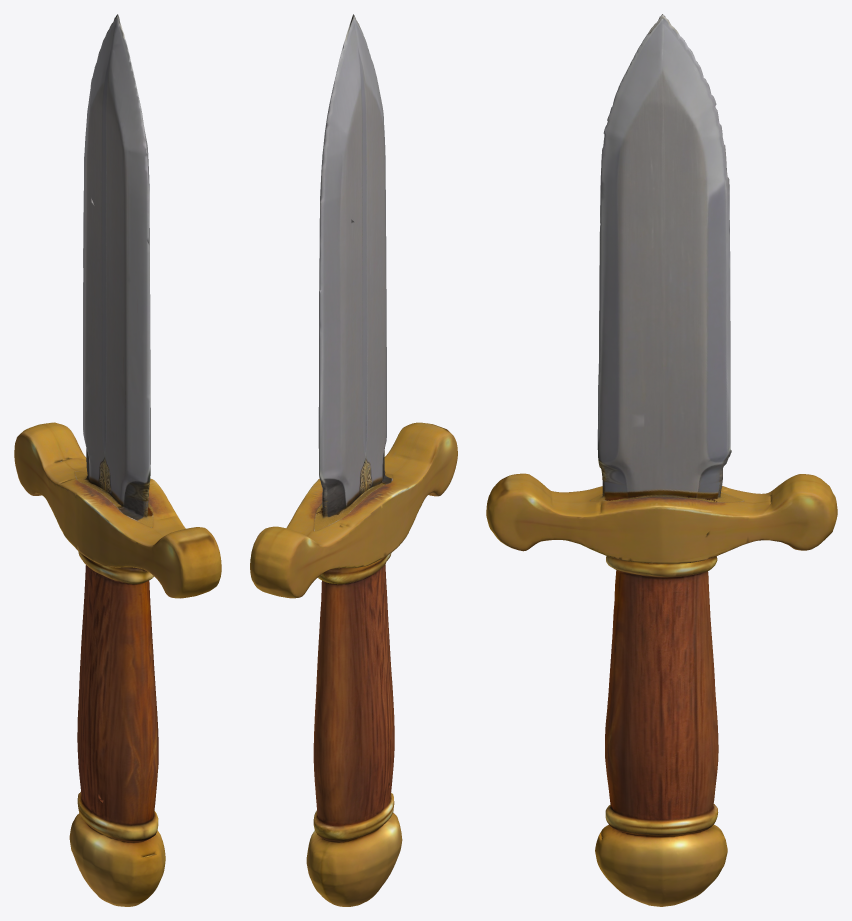
File: hancer2.fbx
3 views of the same model, side by side, from view 1: azimuth 30°, elevation 25°; view 2: azimuth 150°, elevation 25°; view 3: azimuth 270°, elevation 25° (orthographic).
Visible parts, largest first — view 1: Mesh_0; view 2: Mesh_0; view 3: Mesh_0.
Part boxes in pixels (x1,y1,x2,y2): Mesh_0: [14, 14, 221, 906]; Mesh_0: [250, 14, 457, 906]; Mesh_0: [486, 14, 837, 906].
Bounding box in the file's own units: 16.94 × 199 × 71.38.
Materials: 1 (1 with a texture image).
